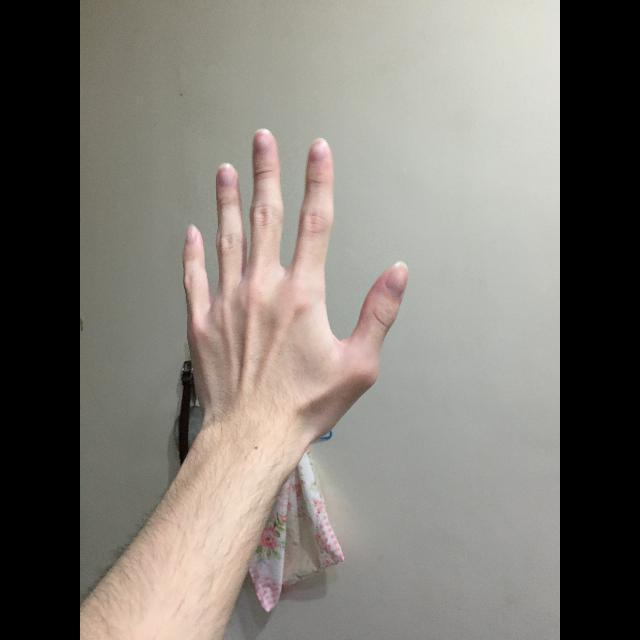bare_hand: (179, 126, 409, 430)
